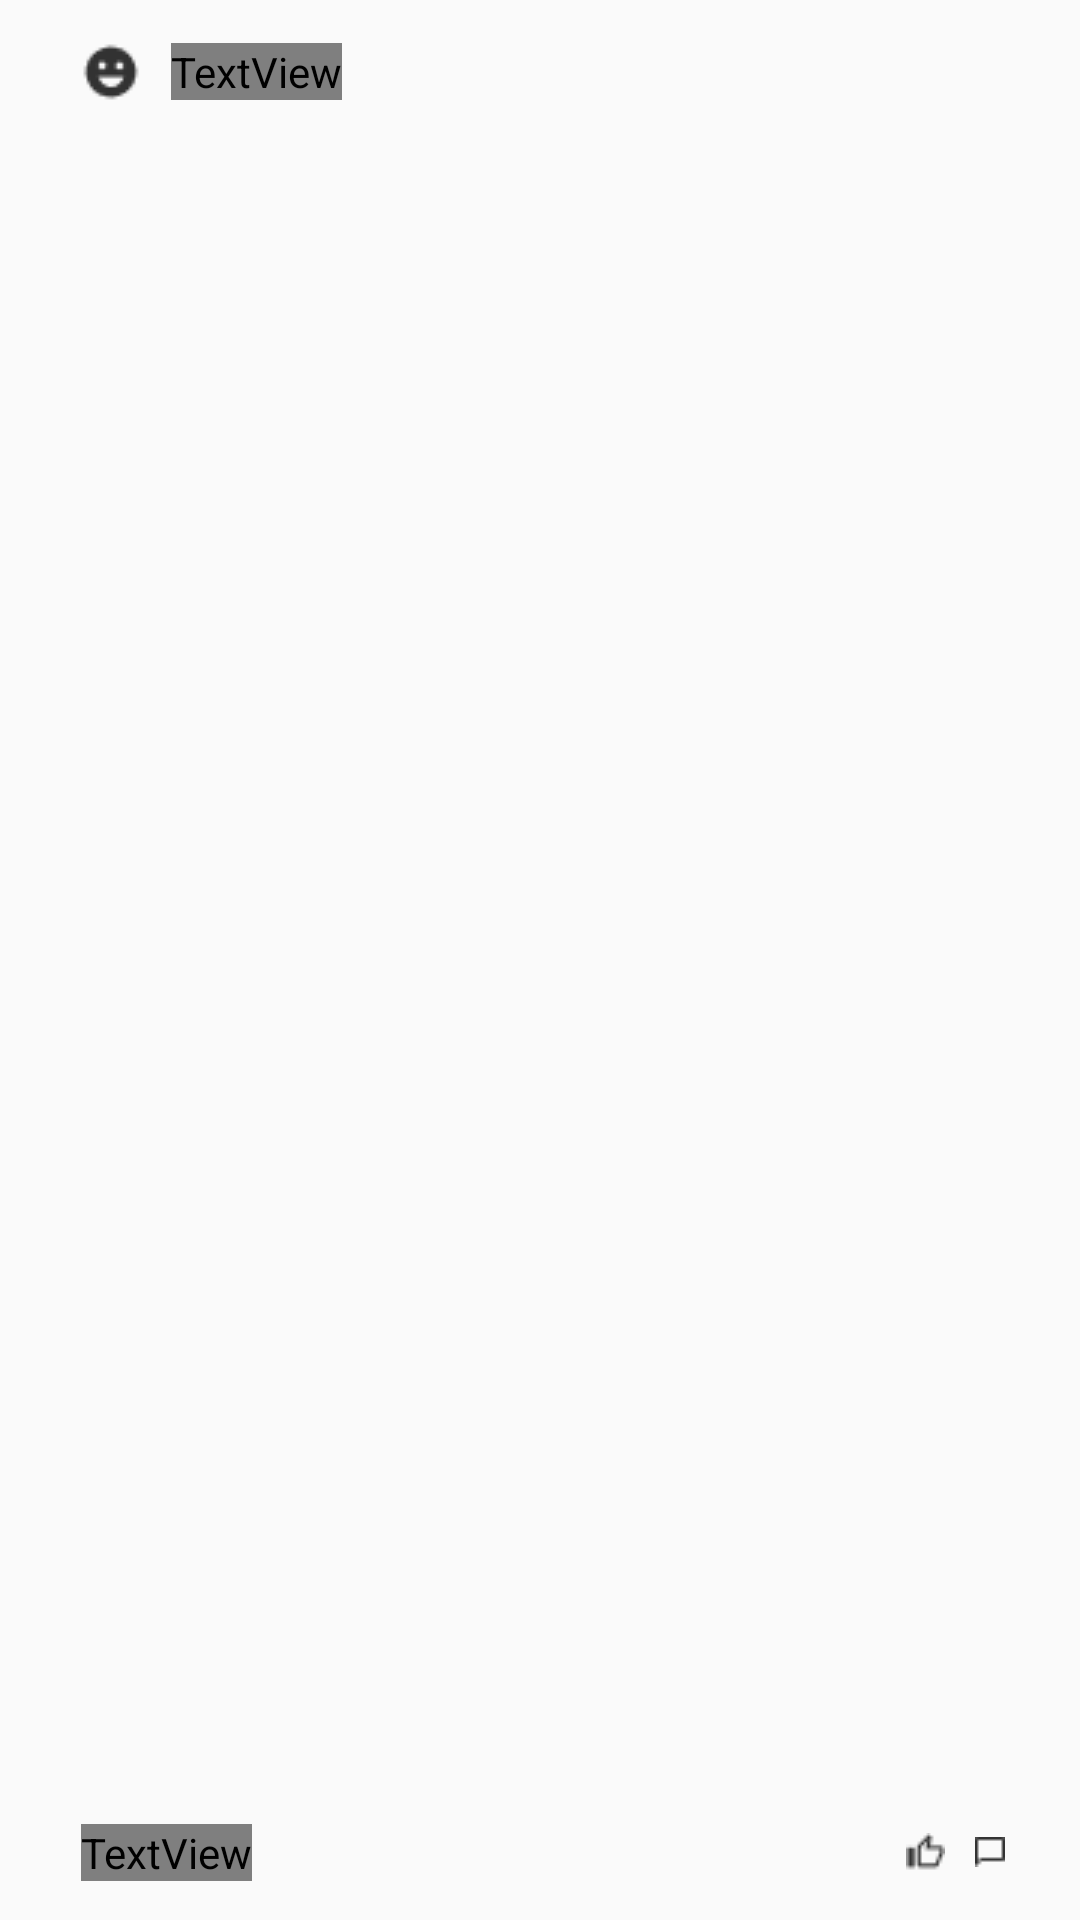

Named icons in this screenshot (1080x1920) and their centers, (x,y):
comment: (990,1852)
profile emoji: (111,72)
thumb up: (925,1851)
